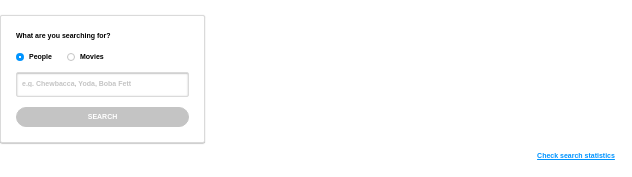
SearchForm › should change placeholder when switching to movies
Step 1. Click the radio button labelled "Movies" → click(71, 57), box x1=67 y1=53 x2=75 y2=61
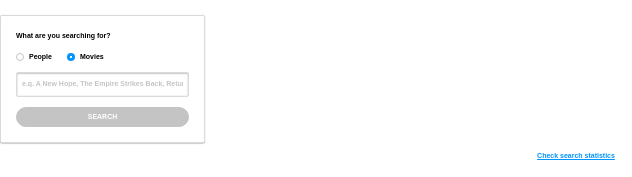
Check: the field with placeholder "A New Hope, The Empire Strikes Back" is shown, box x1=16 y1=72 x2=189 y2=96
